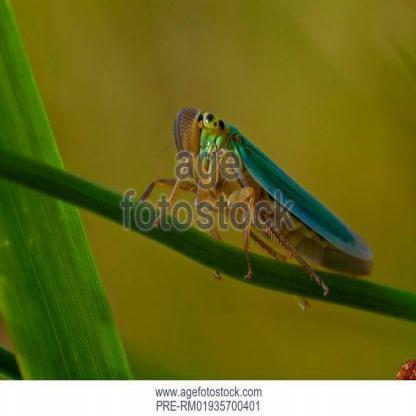Green-Leafhopper: (125, 102, 379, 286)
